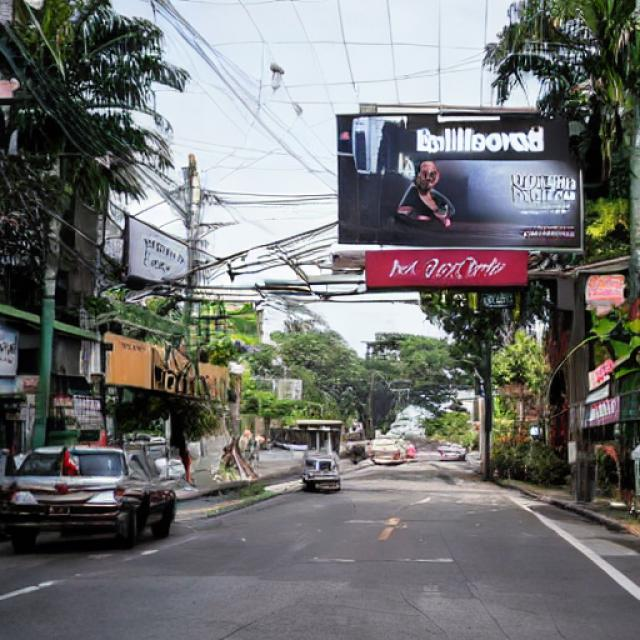Billboard: (335, 106, 588, 254)
